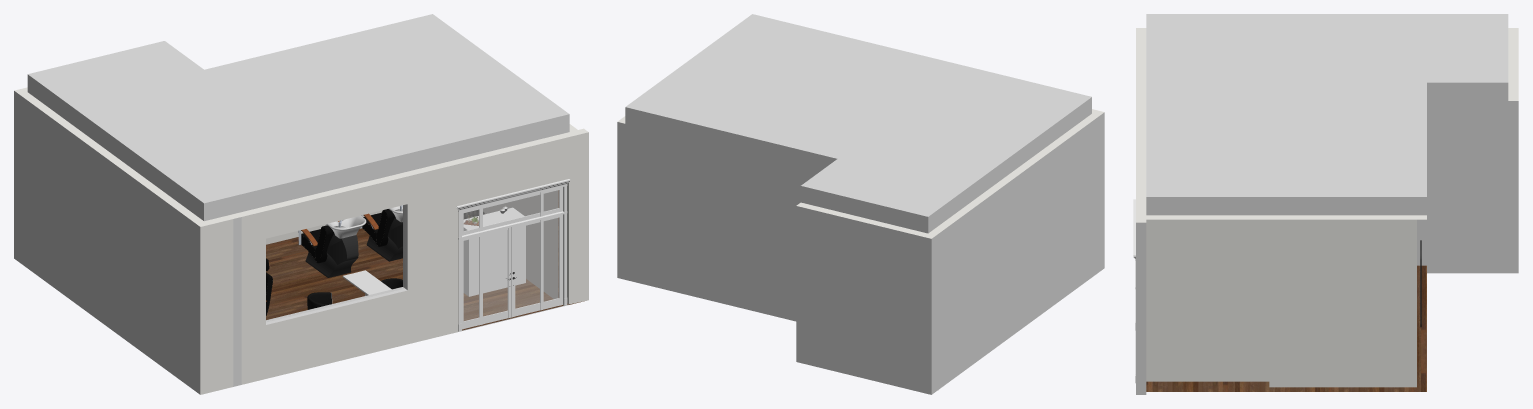
Rendered from vitalina-modelo.glb.
3 renders of one model, left to right at view 1: azimuth 30°, elevation 25°; view 2: azimuth 150°, elevation 25°; view 3: azimuth 270°, elevation 25°, orthographic. The views are drawn at different scales.
Parts seen in each view (by area): view 1: Geom3D (×12), Geom3D_, Geom3D_Componente#118, Geom3D_Componente#48 (×2), Geom3D_Componente#162 (×2), Geom3D_Component#6, Geom3D_Componente#119; view 2: Geom3D_, Geom3D (×2); view 3: Geom3D (×3), Geom3D_.
Boxes of the visible parts, box(x1,y1,x2,y2) form: Geom3D (×12): box(14, 14, 588, 394); Geom3D_: box(14, 91, 407, 394); Geom3D_Componente#118: box(456, 179, 570, 331); Geom3D_Componente#48 (×2): box(481, 219, 541, 324); Geom3D_Componente#162 (×2): box(462, 214, 562, 329); Geom3D_Component#6: box(326, 215, 366, 238); Geom3D_Componente#119: box(481, 192, 541, 230); Geom3D_: box(617, 112, 1104, 394); Geom3D (×2): box(617, 14, 1104, 238); Geom3D (×3): box(1136, 14, 1518, 391); Geom3D_: box(1136, 101, 1518, 394).
Size of what is drawn, in the model's own units: 6.8 by 3.11 by 5.69.
Materials: 79 (47 with a texture image).
